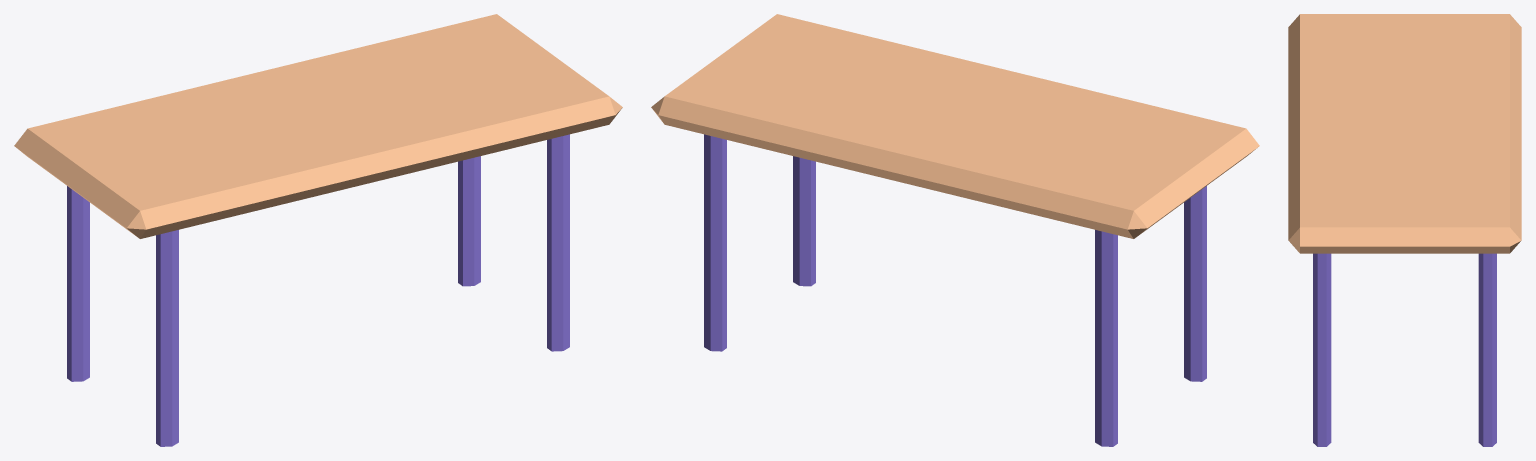
The picture shows the model from 3 angles, left to right: view 1: azimuth 30°, elevation 25°; view 2: azimuth 150°, elevation 25°; view 3: azimuth 270°, elevation 25°; orthographic projection. The views are drawn at different scales.
Visible parts, largest first — view 1: Rounded table top, Leg.002, Leg, Leg.001, Leg.003; view 2: Rounded table top, Leg.003, Leg.001, Leg, Leg.002; view 3: Rounded table top, Leg.002, Leg.003.
Part boxes in pixels (left/top/right/bottom): Rounded table top: left=14, top=14, right=622, bottom=238; Leg.002: left=547, top=134, right=569, bottom=351; Leg: left=156, top=230, right=178, bottom=446; Leg.001: left=67, top=186, right=89, bottom=381; Leg.003: left=458, top=156, right=480, bottom=286; Rounded table top: left=651, top=14, right=1259, bottom=238; Leg.003: left=704, top=134, right=726, bottom=351; Leg.001: left=1095, top=230, right=1117, bottom=446; Leg: left=1184, top=186, right=1206, bottom=381; Leg.002: left=793, top=156, right=815, bottom=286; Rounded table top: left=1288, top=14, right=1521, bottom=253; Leg.002: left=1313, top=253, right=1331, bottom=446; Leg.003: left=1478, top=253, right=1496, bottom=446.
Bounding box in the file's own units: 165 × 79.5 × 72.
